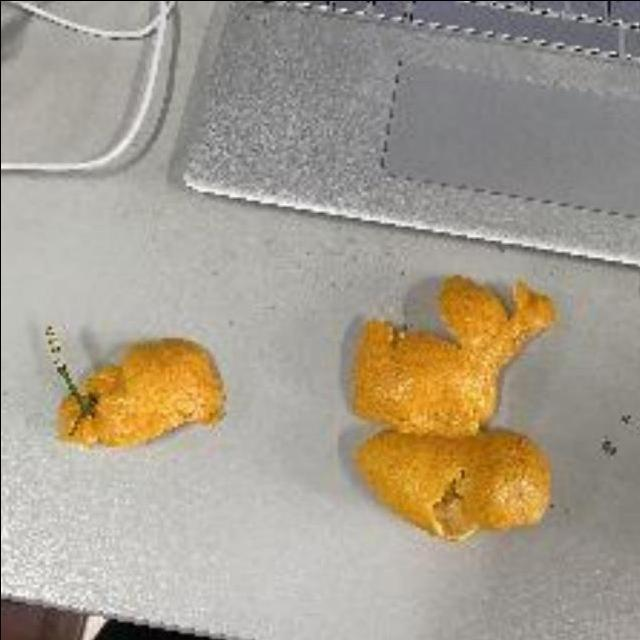orange peel: (347, 269, 557, 436), (350, 418, 553, 548), (50, 337, 231, 451)
